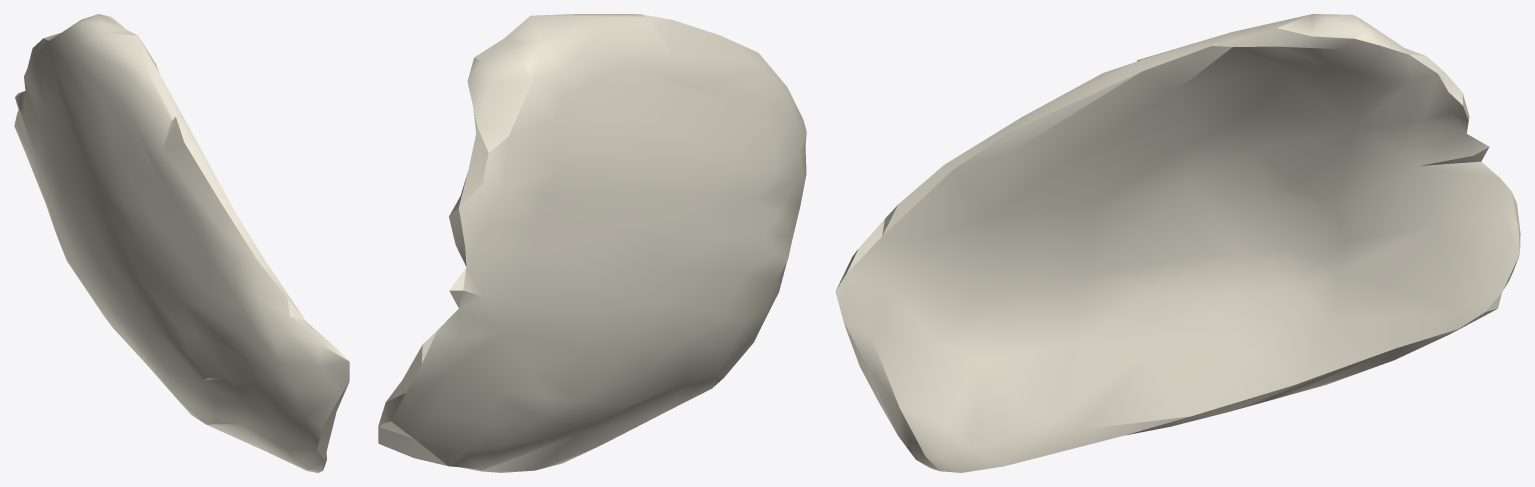
Rendered from fma321701-l_mm1460.glb.
3 views of the same model, side by side, from view 1: azimuth 30°, elevation 25°; view 2: azimuth 150°, elevation 25°; view 3: azimuth 270°, elevation 25° (orthographic). The views are drawn at different scales.
Parts seen in each view (by area): view 1: FMA321701-L_MM1460; view 2: FMA321701-L_MM1460; view 3: FMA321701-L_MM1460.
Part boxes in pixels (<box>): FMA321701-L_MM1460: <box>14,14,349,472</box>; FMA321701-L_MM1460: <box>378,14,806,472</box>; FMA321701-L_MM1460: <box>835,14,1520,472</box>.
Size of the model in its own units: 0.00158 by 0.00475 by 0.00698.
